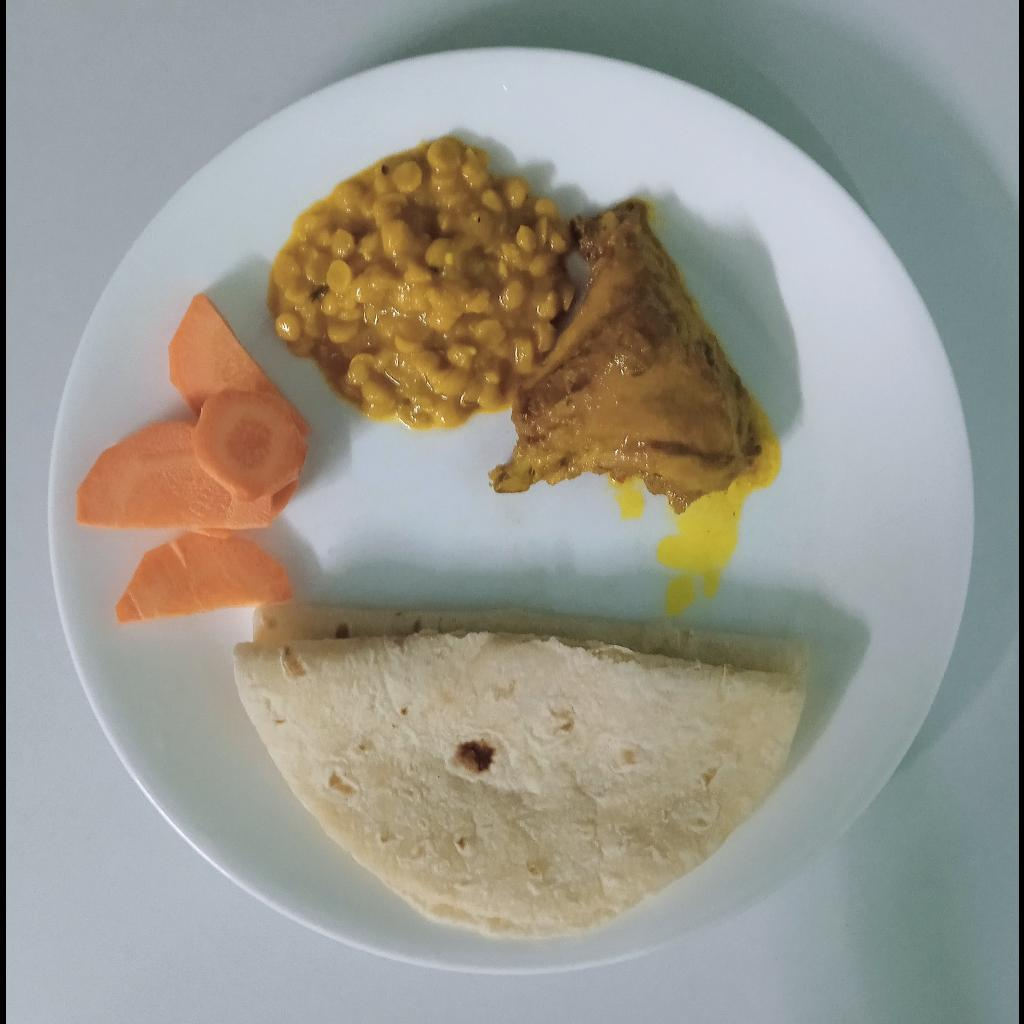carrot: (76, 296, 315, 622)
chicken: (488, 200, 760, 513)
daal: (271, 142, 575, 430)
ruti: (233, 603, 812, 939)
